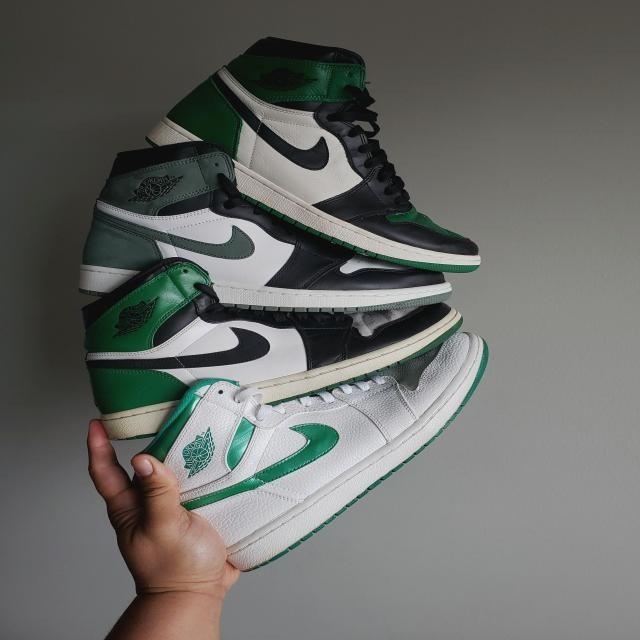shoes: (135, 29, 517, 279), (140, 323, 494, 583), (40, 262, 490, 442), (70, 135, 467, 315)
